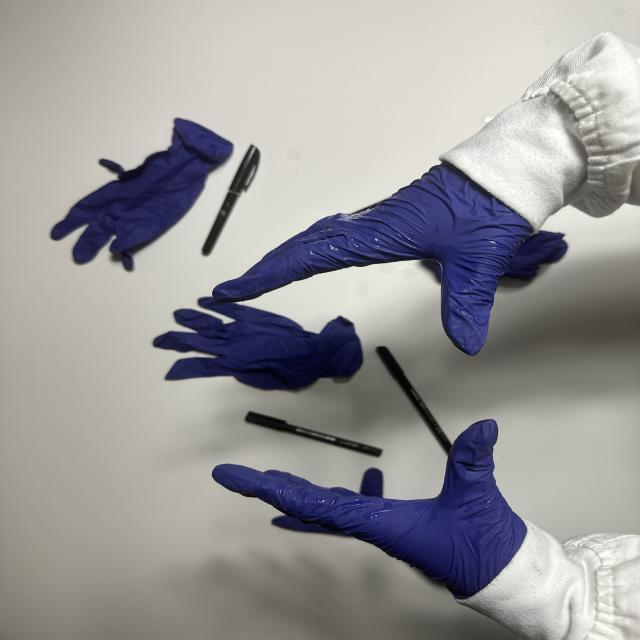gloves_contaminated: (213, 165, 533, 355), (213, 420, 526, 599)
